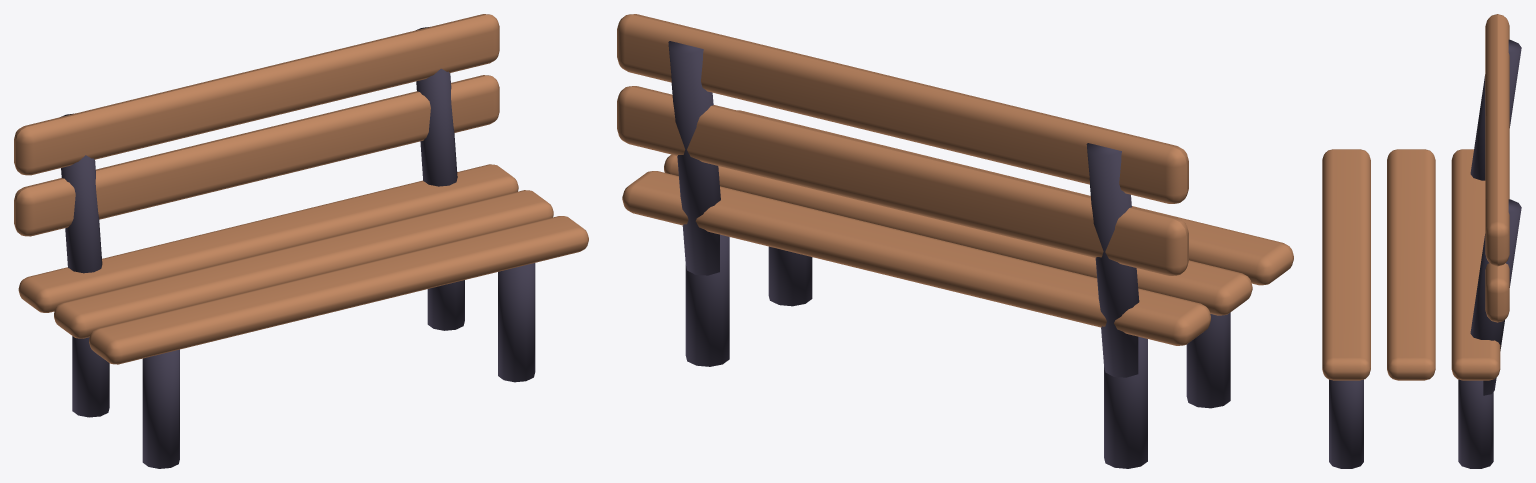
File: Park_bench.fbx
3 renders of one model, left to right at view 1: azimuth 30°, elevation 25°; view 2: azimuth 150°, elevation 25°; view 3: azimuth 270°, elevation 25°, orthographic. The views are drawn at different scales.
Visible parts, largest first — view 1: Town_Park_bench Backrest slat.003, Town_Park_bench Backrest slat.002, Town_Park_bench Seat slat.003, Town_Park_bench Seat slat.004, Town_Park_bench Seat slat.005, Town_Park_bench Bench leg.006, Town_Park_bench Bench leg.004, Town_Park_bench Back support.003, Town_Park_bench Back support.002, Town_Park_bench Bench leg.005, Town_Park_bench Bench leg.007; view 2: Town_Park_bench Backrest slat.002, Town_Park_bench Backrest slat.003, Town_Park_bench Seat slat.005, Town_Park_bench Seat slat.004, Town_Park_bench Back support.002, Town_Park_bench Back support.003, Town_Park_bench Seat slat.003, Town_Park_bench Bench leg.007, Town_Park_bench Bench leg.005, Town_Park_bench Bench leg.004, Town_Park_bench Bench leg.006; view 3: Town_Park_bench Seat slat.004, Town_Park_bench Seat slat.003, Town_Park_bench Seat slat.005, Town_Park_bench Backrest slat.003, Town_Park_bench Bench leg.006, Town_Park_bench Bench leg.007, Town_Park_bench Back support.003, Town_Park_bench Back support.002, Town_Park_bench Backrest slat.002.
Boxes of the visible parts, left/top/right/bottom form: Town_Park_bench Backrest slat.003: left=14, top=14, right=499, bottom=175; Town_Park_bench Backrest slat.002: left=14, top=75, right=499, bottom=236; Town_Park_bench Seat slat.003: left=89, top=216, right=588, bottom=364; Town_Park_bench Seat slat.004: left=54, top=190, right=553, bottom=338; Town_Park_bench Seat slat.005: left=18, top=164, right=518, bottom=312; Town_Park_bench Bench leg.006: left=498, top=263, right=535, bottom=382; Town_Park_bench Bench leg.004: left=142, top=349, right=179, bottom=468; Town_Park_bench Back support.003: left=416, top=27, right=457, bottom=186; Town_Park_bench Back support.002: left=61, top=113, right=102, bottom=273; Town_Park_bench Bench leg.005: left=72, top=336, right=109, bottom=417; Town_Park_bench Bench leg.007: left=427, top=280, right=464, bottom=330; Town_Park_bench Backrest slat.002: left=617, top=86, right=1188, bottom=275; Town_Park_bench Backrest slat.003: left=617, top=14, right=1188, bottom=203; Town_Park_bench Seat slat.005: left=622, top=171, right=1210, bottom=345; Town_Park_bench Seat slat.004: left=664, top=154, right=1252, bottom=315; Town_Park_bench Back support.002: left=1086, top=143, right=1139, bottom=377; Town_Park_bench Back support.003: left=668, top=41, right=720, bottom=275; Town_Park_bench Seat slat.003: left=737, top=110, right=1293, bottom=285; Town_Park_bench Bench leg.007: left=685, top=234, right=729, bottom=366; Town_Park_bench Bench leg.005: left=1104, top=336, right=1147, bottom=468; Town_Park_bench Bench leg.004: left=1186, top=312, right=1230, bottom=408; Town_Park_bench Bench leg.006: left=768, top=246, right=812, bottom=306; Town_Park_bench Seat slat.004: left=1387, top=149, right=1435, bottom=380; Town_Park_bench Seat slat.003: left=1322, top=149, right=1370, bottom=380; Town_Park_bench Seat slat.005: left=1451, top=149, right=1500, bottom=380; Town_Park_bench Backrest slat.003: left=1485, top=14, right=1509, bottom=266; Town_Park_bench Bench leg.006: left=1329, top=379, right=1363, bottom=468; Town_Park_bench Bench leg.007: left=1458, top=379, right=1493, bottom=468; Town_Park_bench Back support.003: left=1470, top=199, right=1521, bottom=395; Town_Park_bench Back support.002: left=1470, top=39, right=1521, bottom=180; Town_Park_bench Backrest slat.002: left=1485, top=263, right=1509, bottom=322.
Size of the model in its own units: 190 by 108 by 73.95.
